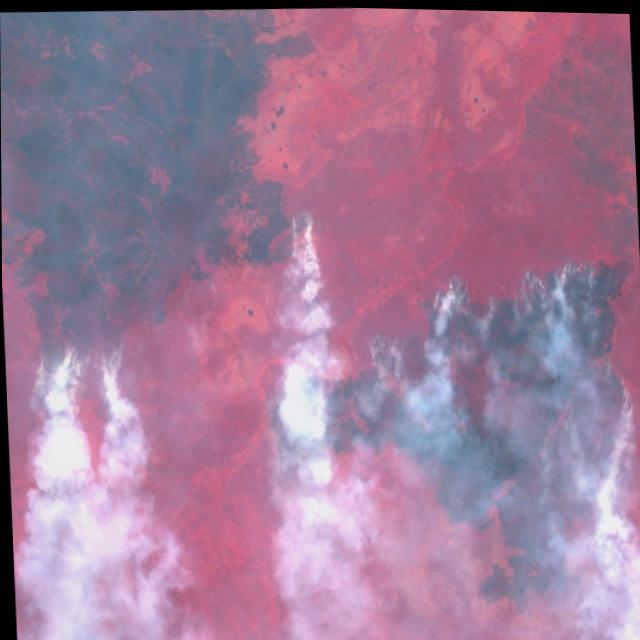fire: (373, 226, 638, 381), (533, 368, 640, 519), (260, 341, 383, 469), (18, 324, 130, 415), (249, 188, 333, 271)
